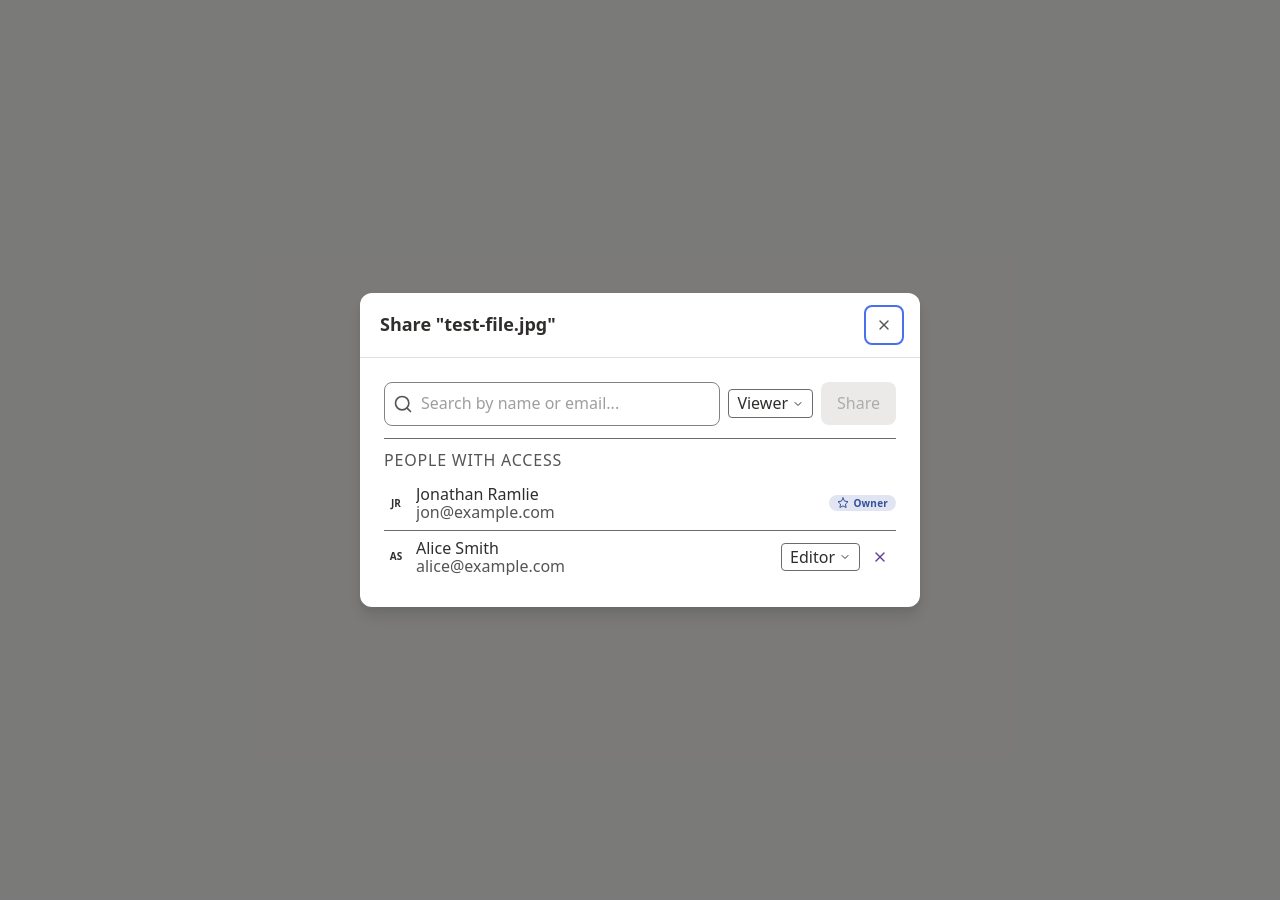
Test case: ShareDialog › search flow › filters already-shared users from results
Type "a" into the dropdown with placeholder "Search by name or email..." at (566, 404), box [421,394,711,413]
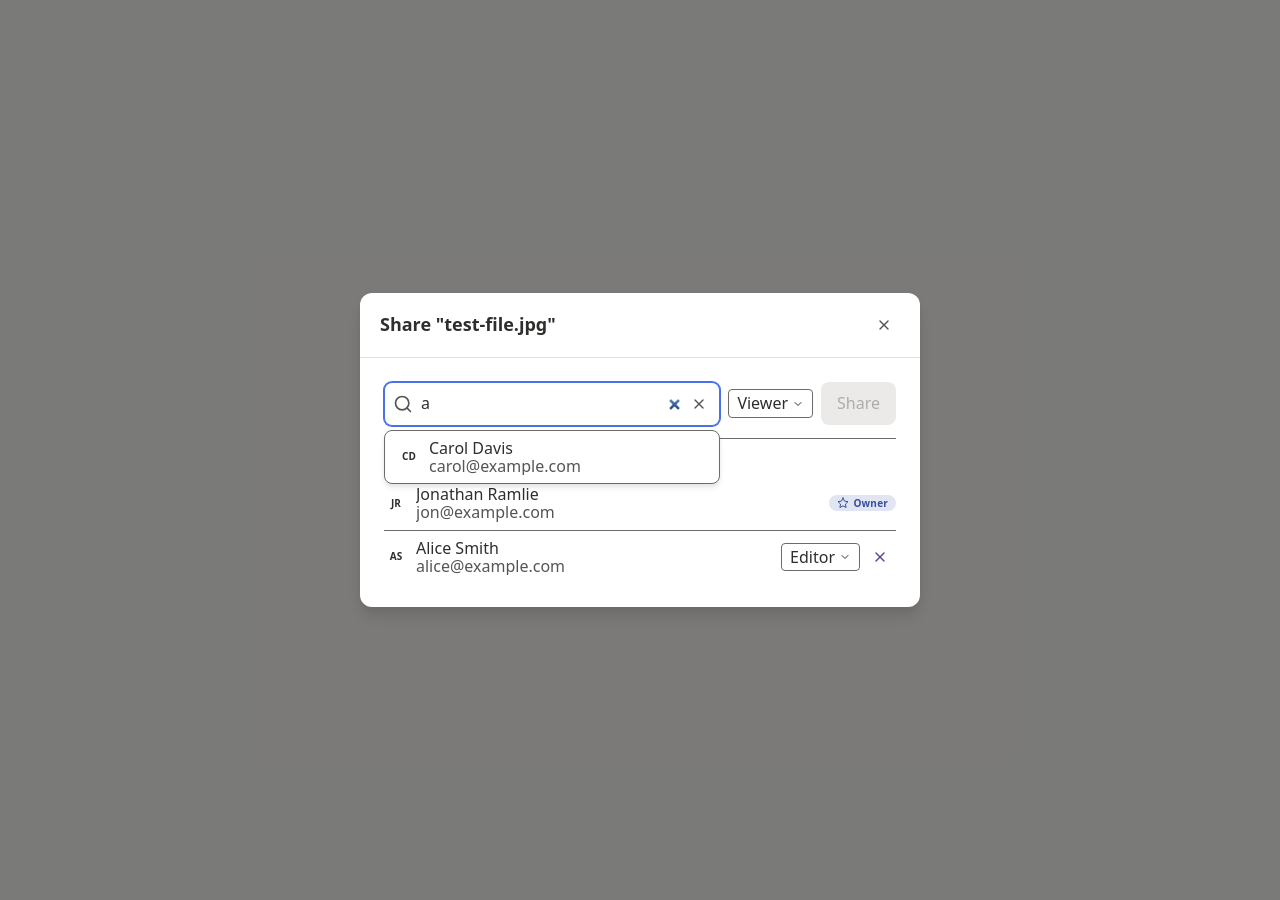
Expected: the number of options is 1, [402,436,581,477]
Expected: the option shows "Carol Davis", [402,436,581,477]
